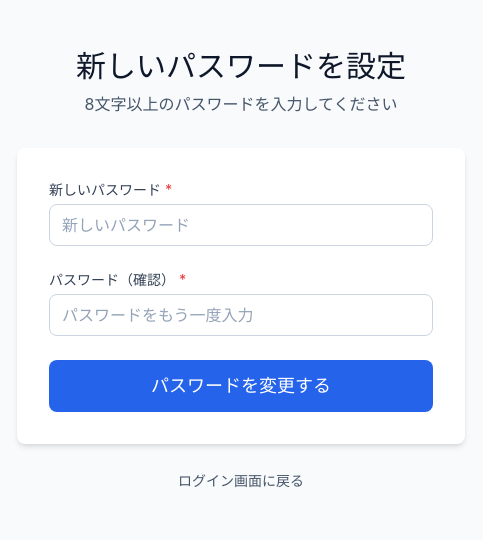
Test case: ResetPasswordPage › トークンあり › パスワードが一致しない場合エラーが表示される
In the password field labelled "新しいパスワード*": point(241, 225) [49, 204, 433, 246], type "password123"
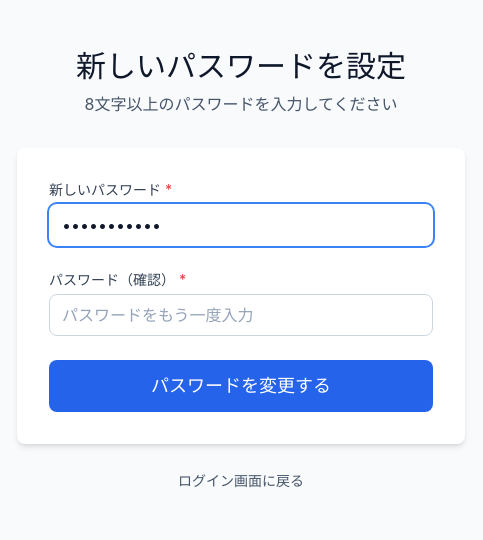
In the password field labelled "パスワード（確認）*": point(241, 315) [49, 294, 433, 336], type "different456"
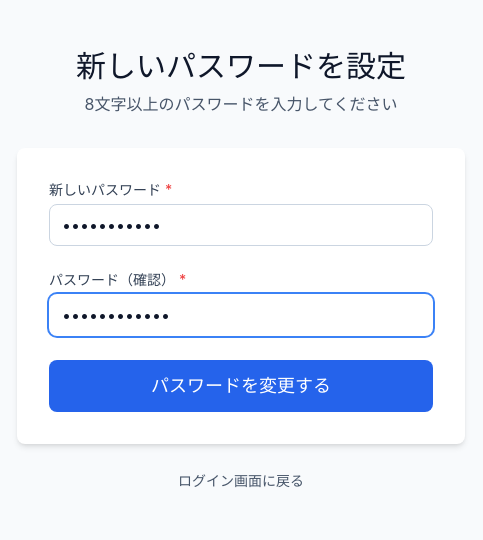
Click the button "パスワードを変更する": point(241, 386) [49, 360, 433, 412]
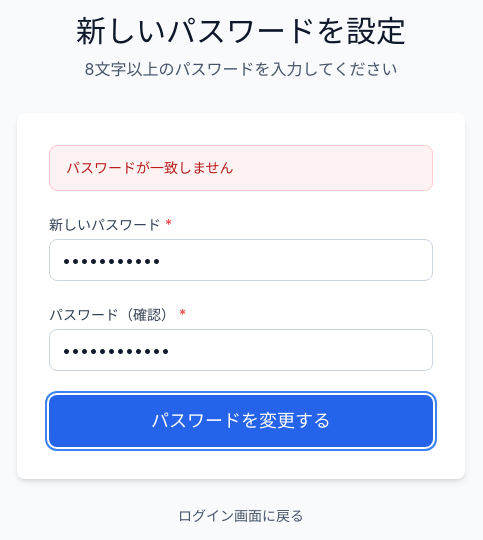
Check: the text "パスワードが一致しません" is shown, box [49, 145, 433, 191]
